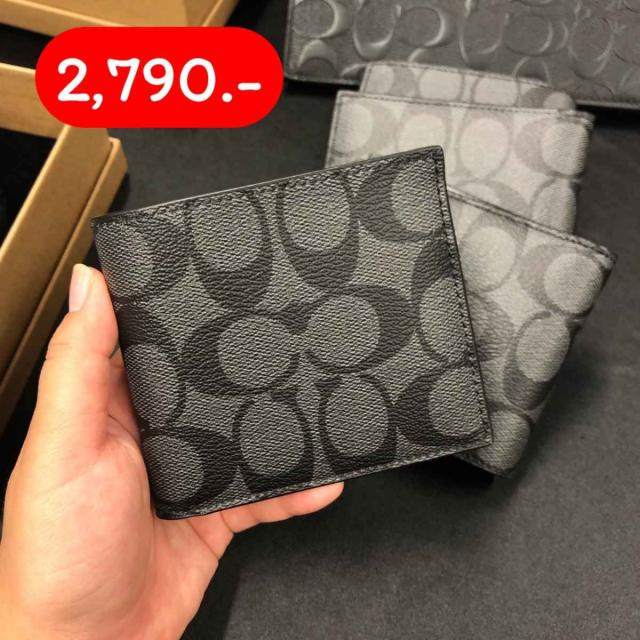Handbag: (99, 127, 491, 525)
